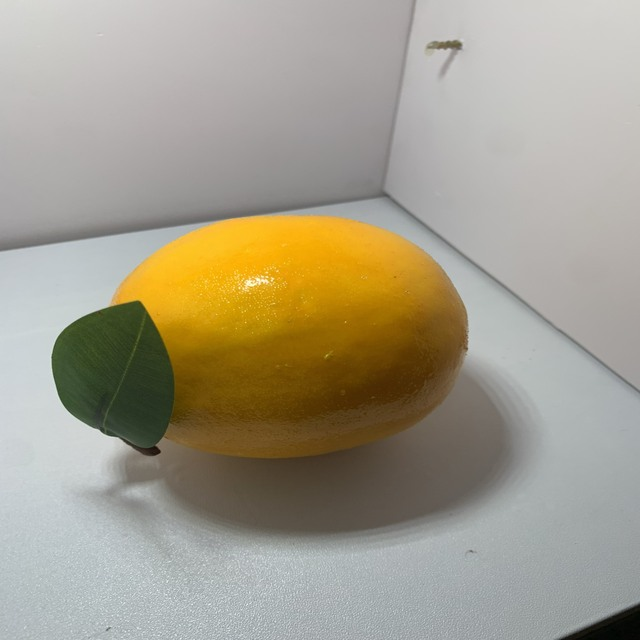Cam vang: (99, 205, 478, 463)
